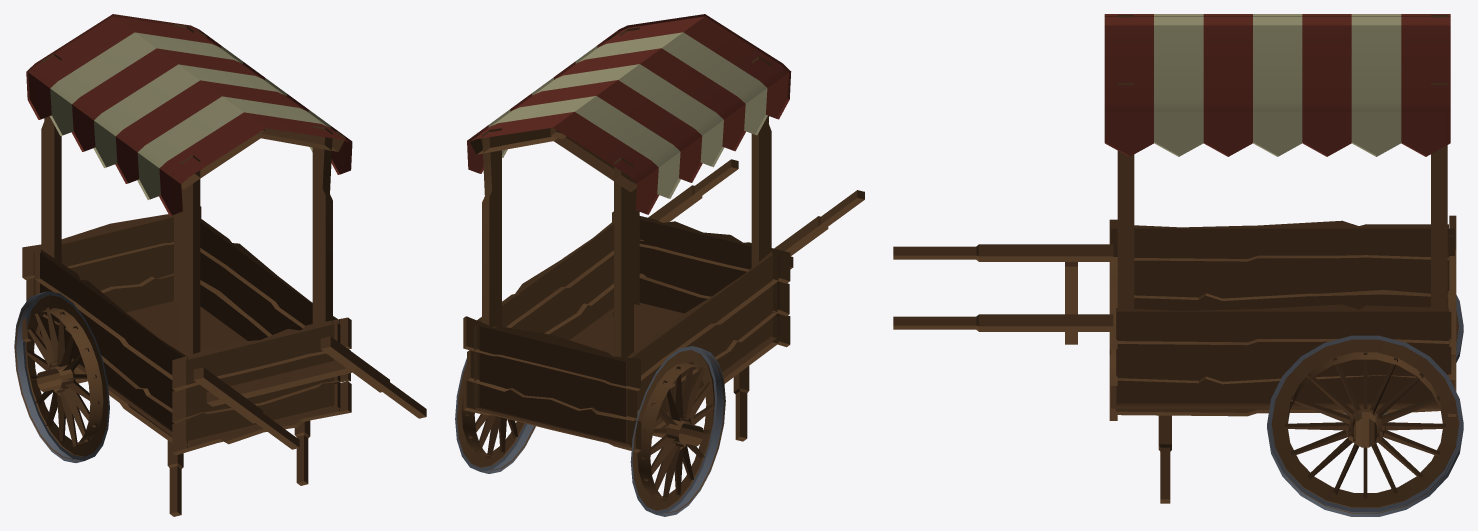
File: cart.glb
The picture shows the model from 3 angles, left to right: view 1: azimuth 30°, elevation 25°; view 2: azimuth 150°, elevation 25°; view 3: azimuth 270°, elevation 25°; orthographic projection. The views are drawn at different scales.
Visible parts, largest first — view 1: body; view 2: body; view 3: body.
Boxes of the visible parts, box(x1,y1,x2,y2) form: body: box(14, 14, 426, 516); body: box(455, 14, 864, 516); body: box(893, 14, 1463, 516).
Size of the model in its own units: 0.9968 by 1.72 by 2.
